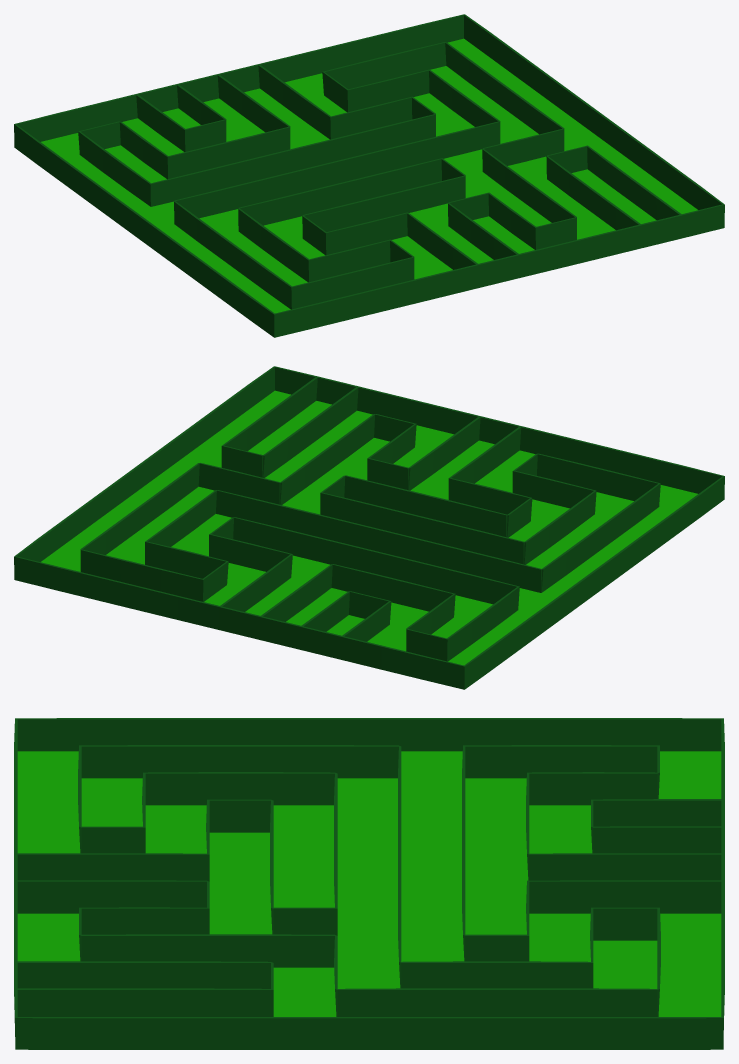
The model's file is Maze_1.fbx.
3 views of the same model, one above another, from view 1: azimuth 30°, elevation 25°; view 2: azimuth 150°, elevation 25°; view 3: azimuth 270°, elevation 25° (orthographic). The views are drawn at different scales.
Parts seen in each view (by area): view 1: Плоскость; view 2: Плоскость; view 3: Плоскость.
Boxes of the visible parts, x1,y1,x2,y2 form: Плоскость: (14, 14, 724, 337); Плоскость: (14, 366, 724, 689); Плоскость: (14, 718, 724, 1049).
Size of the model in its own units: 10100 by 501 by 10100.
